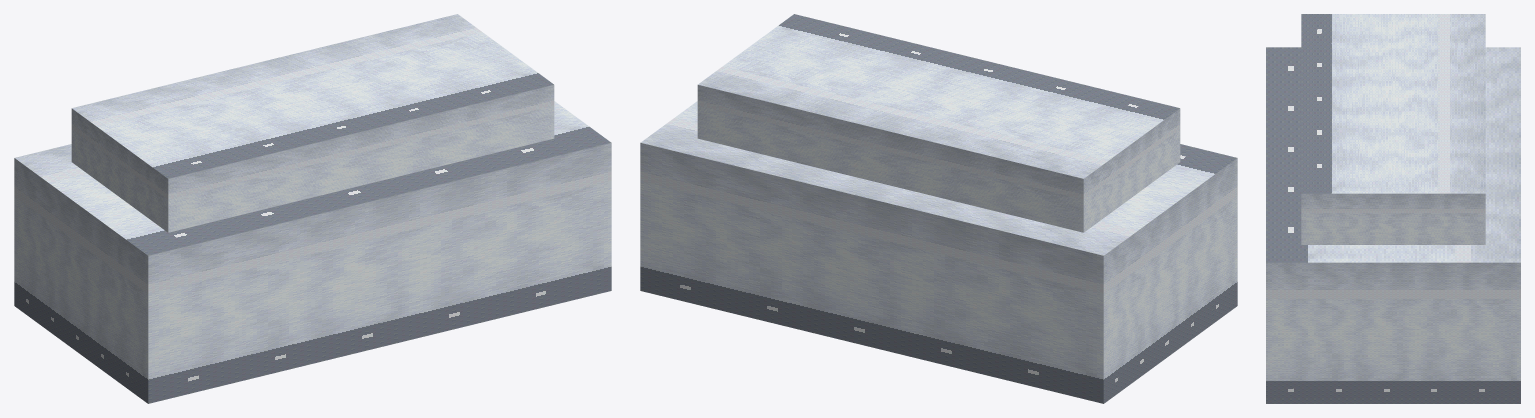
File: lingote_de_prata.glb
3 renders of one model, left to right at view 1: azimuth 30°, elevation 25°; view 2: azimuth 150°, elevation 25°; view 3: azimuth 270°, elevation 25°, orthographic. The views are drawn at different scales.
Parts seen in each view (by area): view 1: lingote_de_prata; view 2: lingote_de_prata; view 3: lingote_de_prata.
Boxes of the visible parts, bbox=[...] form: lingote_de_prata: bbox=[14, 14, 611, 403]; lingote_de_prata: bbox=[640, 14, 1237, 403]; lingote_de_prata: bbox=[1266, 14, 1520, 403].
Size of the model in its own units: 0.36 by 0.15 by 0.18.
Materials: 1 (1 with a texture image).
